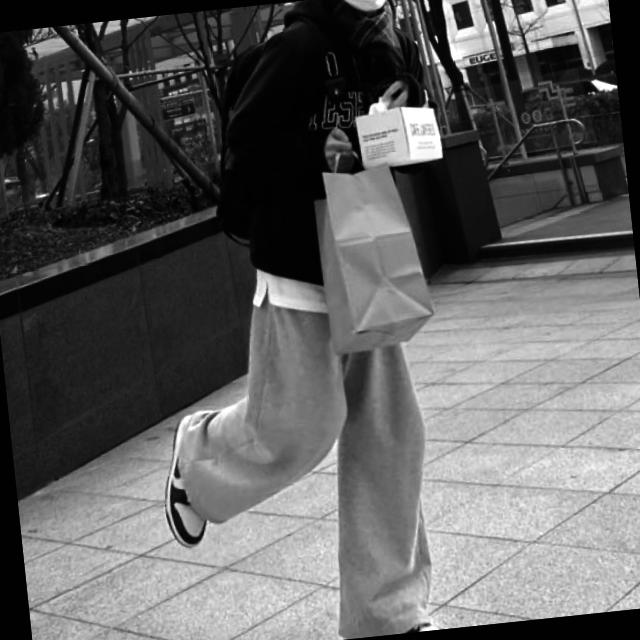hoodies: (201, 0, 440, 300)
trainingpants: (142, 263, 444, 640)
